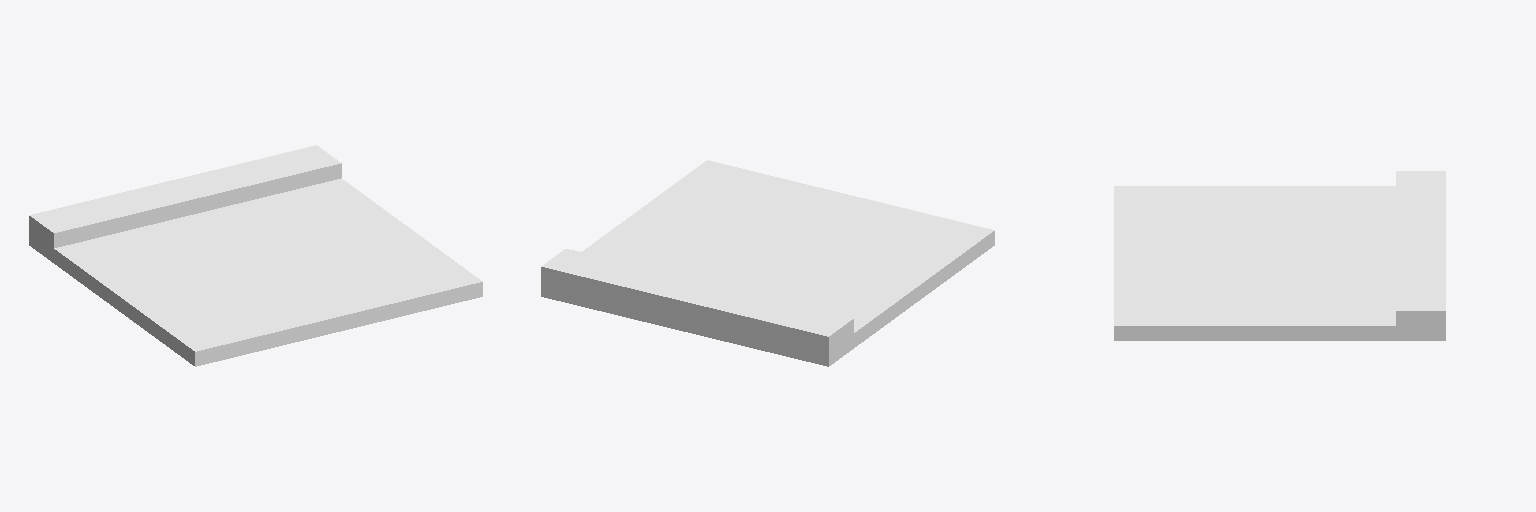
File: Stenka1-1.obj
3 renders of one model, left to right at view 1: azimuth 30°, elevation 25°; view 2: azimuth 150°, elevation 25°; view 3: azimuth 270°, elevation 25°, orthographic.
Parts seen in each view (by area): view 1: object 1; view 2: object 1; view 3: object 1.
Part boxes in pixels (bbox=[...]): object 1: bbox=[29, 145, 482, 366]; object 1: bbox=[541, 160, 994, 366]; object 1: bbox=[1114, 171, 1445, 340].
Bounding box in the file's own units: 2 × 0.2 × 2.